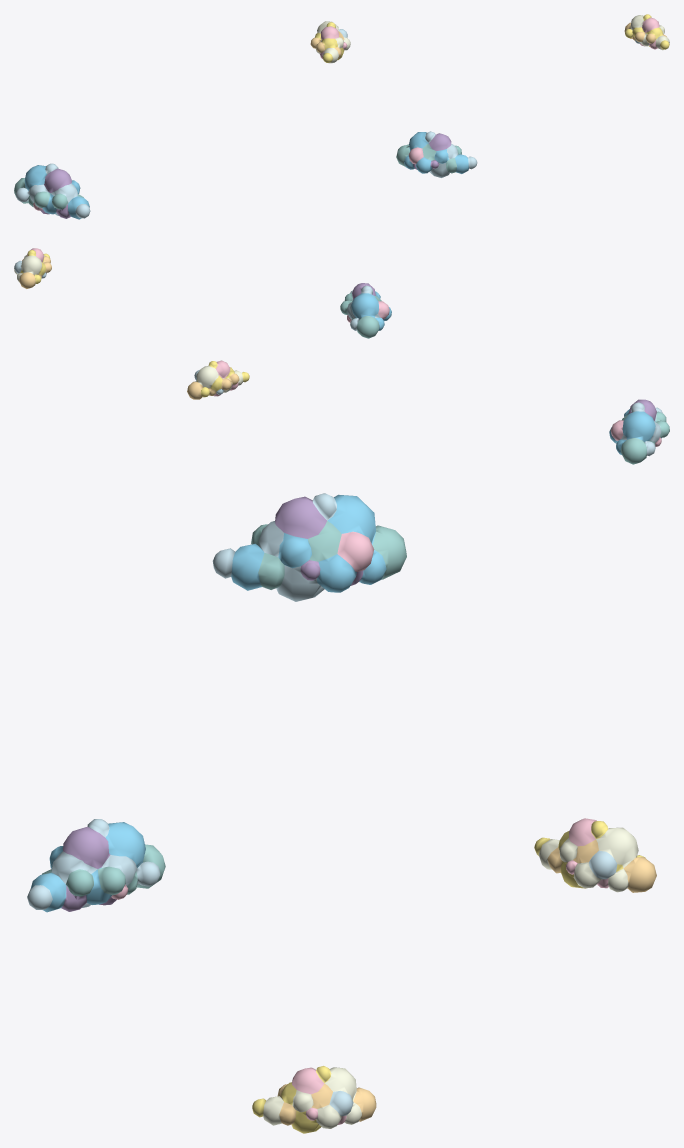
The model's file is SM_Nubes.fbx.
The picture shows the model from 3 angles, top to bottom: view 1: azimuth 30°, elevation 25°; view 2: azimuth 150°, elevation 25°; view 3: azimuth 270°, elevation 25°; orthographic projection. The views are drawn at different scales.
Visible parts, largest first — view 1: NUBE_04, NUBE_01, NUBE_02, NUBE_03; view 2: NUBE_04, NUBE_01, NUBE_02, NUBE_03; view 3: NUBE_04, NUBE_01, NUBE_02, NUBE_03.
Part boxes in pixels (box(x1,y1,x2,y2)): NUBE_04: box(14, 163, 90, 219); NUBE_01: box(396, 131, 477, 177); NUBE_02: box(310, 21, 350, 63); NUBE_03: box(624, 14, 669, 50); NUBE_04: box(609, 399, 669, 464); NUBE_01: box(340, 283, 391, 338); NUBE_02: box(187, 360, 249, 399); NUBE_03: box(14, 248, 51, 288); NUBE_04: box(212, 493, 406, 601); NUBE_01: box(27, 819, 165, 912); NUBE_02: box(534, 818, 656, 892); NUBE_03: box(252, 1066, 376, 1133).
Bounding box in the file's own units: 8226 × 690 × 3527.
